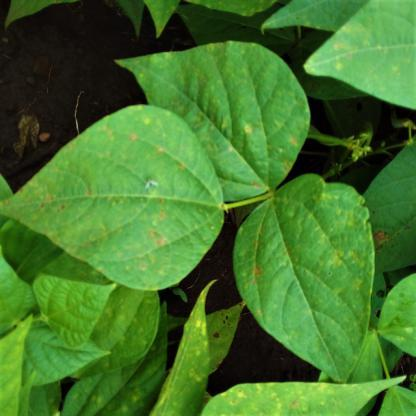Beans_Angular_LeafSpot: (0, 110, 220, 279), (117, 48, 318, 195), (239, 181, 378, 372), (155, 282, 223, 416), (203, 372, 406, 414)
